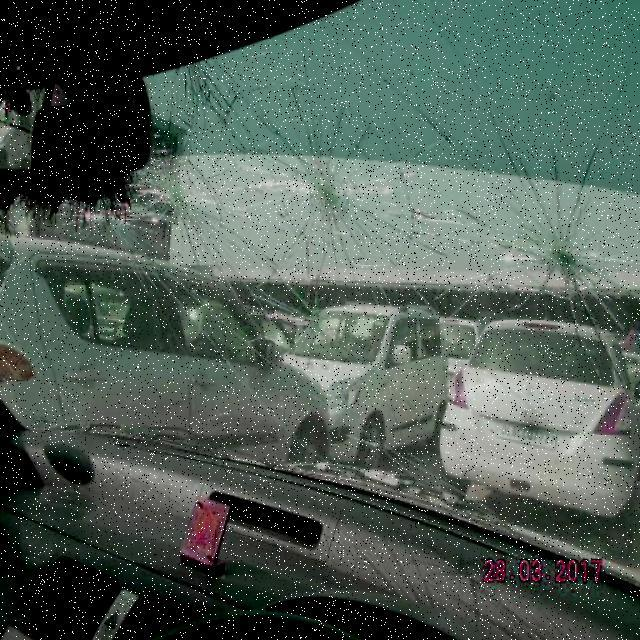car damage: (255, 121, 385, 232), (497, 197, 612, 307), (141, 153, 223, 239)
